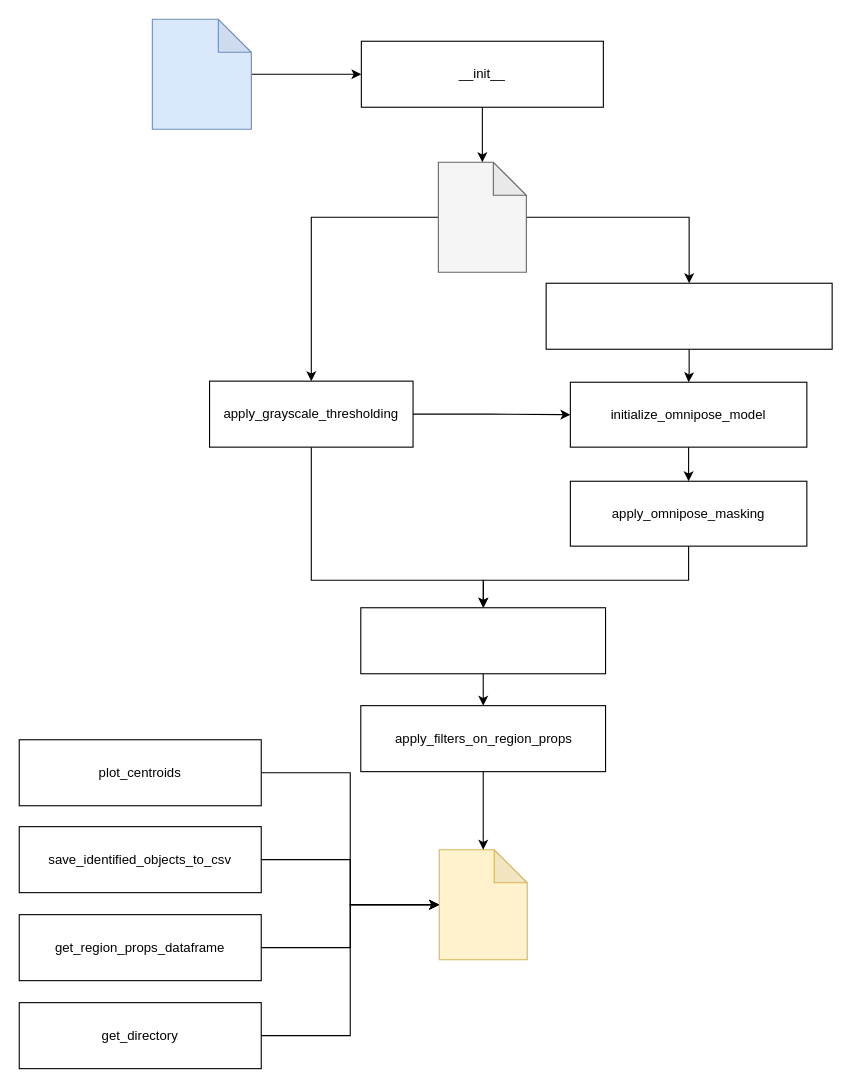
Some shapes in this 851 by 1088 pixel diagram are drawn without their labels. Here are the shapes that lost their labels. From the top down, the box of each, then its label:
(151, 18, 251, 129): Capture Object (previously made)
(437, 161, 526, 272): Identify Object
(545, 282, 832, 349): get_possible_omnipose_model_names
(360, 607, 606, 674): generate_region_props_to_dataframe
(438, 849, 527, 960): Identify Object (with identified objects)
